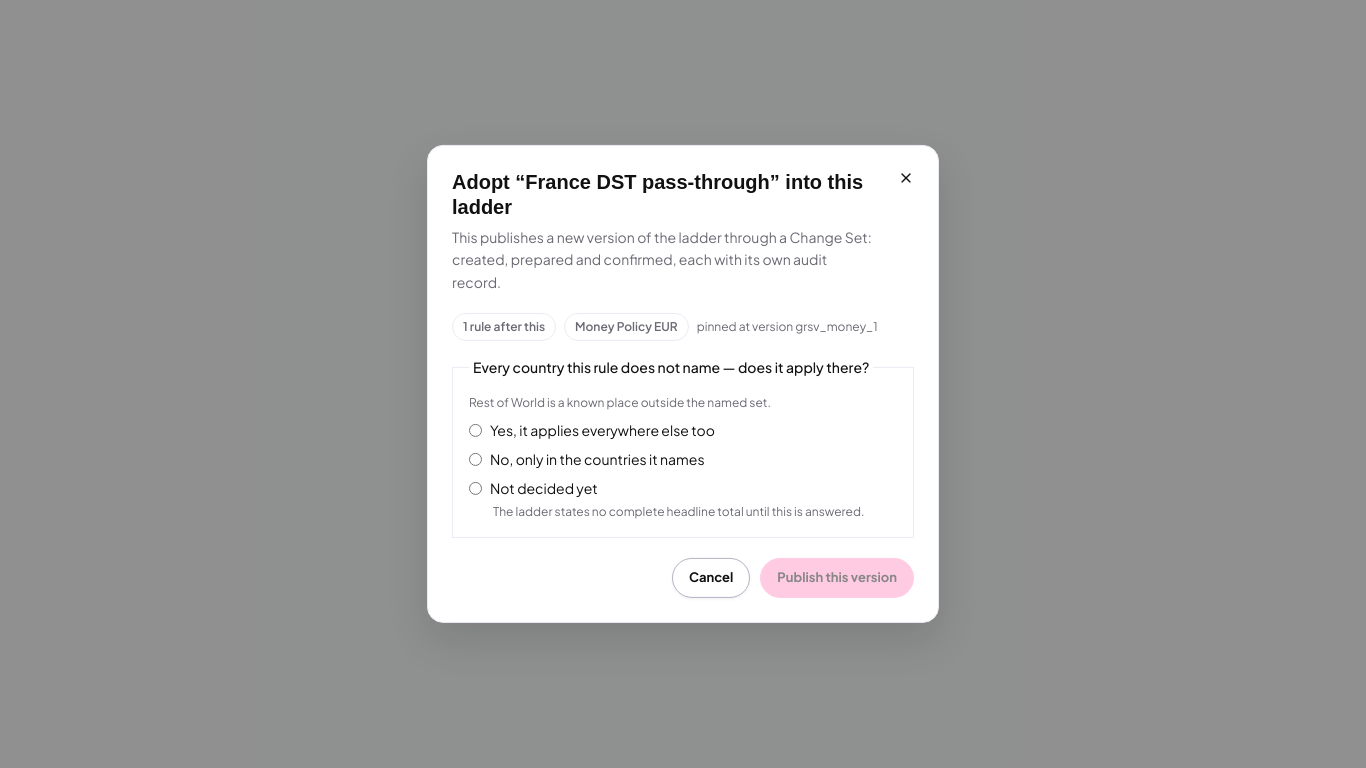
adopting a preset through a Change Set › cannot publish while one question is unanswered
Expected: the text "Every country this rule does not name — does it apply there?" is shown, [469,357,873,378]
Expected: the button "Publish this version" is disabled, [760,558,914,598]
Step 1. Click the radio button labelled "No, only in the countries it names" → x=476, y=460, box [469,453,482,466]
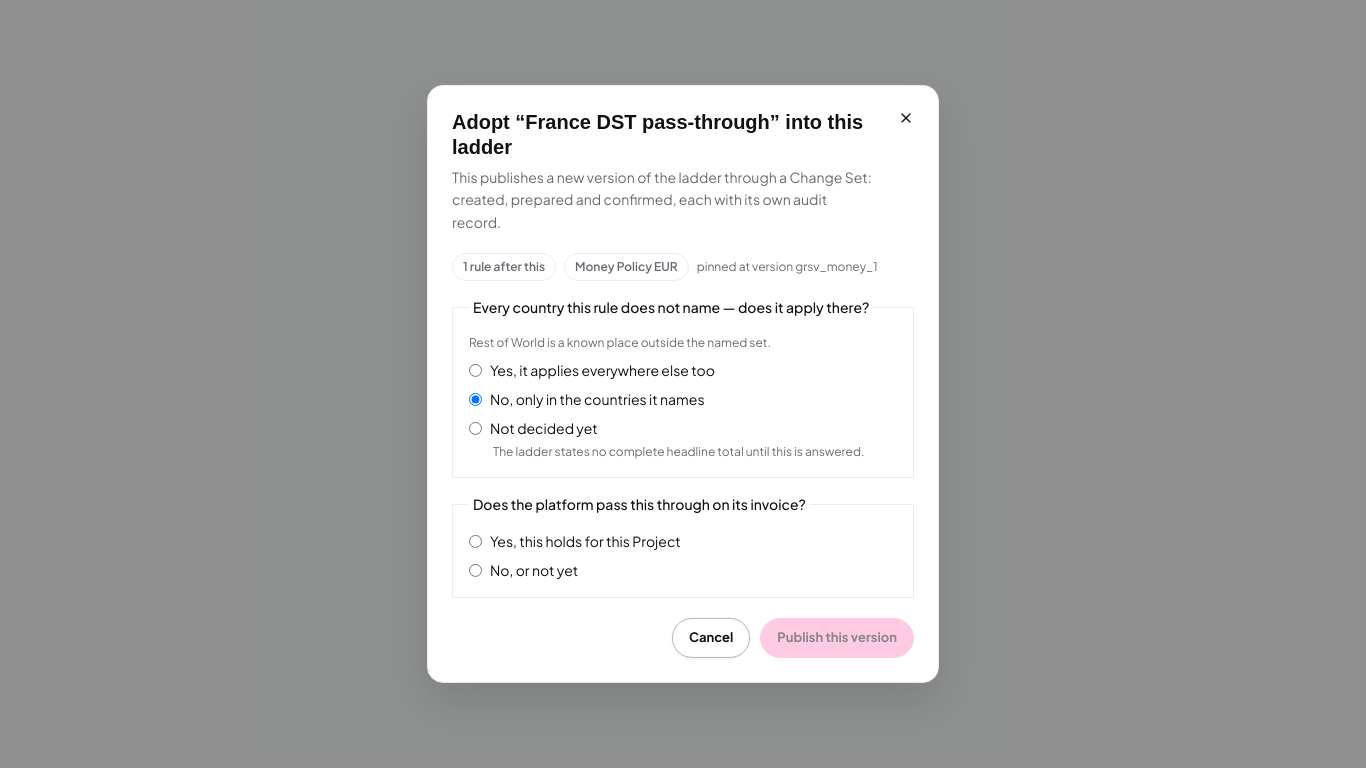
Expected: the button "Publish this version" is disabled, [760,618,914,658]
Step 2. Click the radio button labelled "Yes, this holds for this Project" → x=476, y=542, box [469,535,482,548]
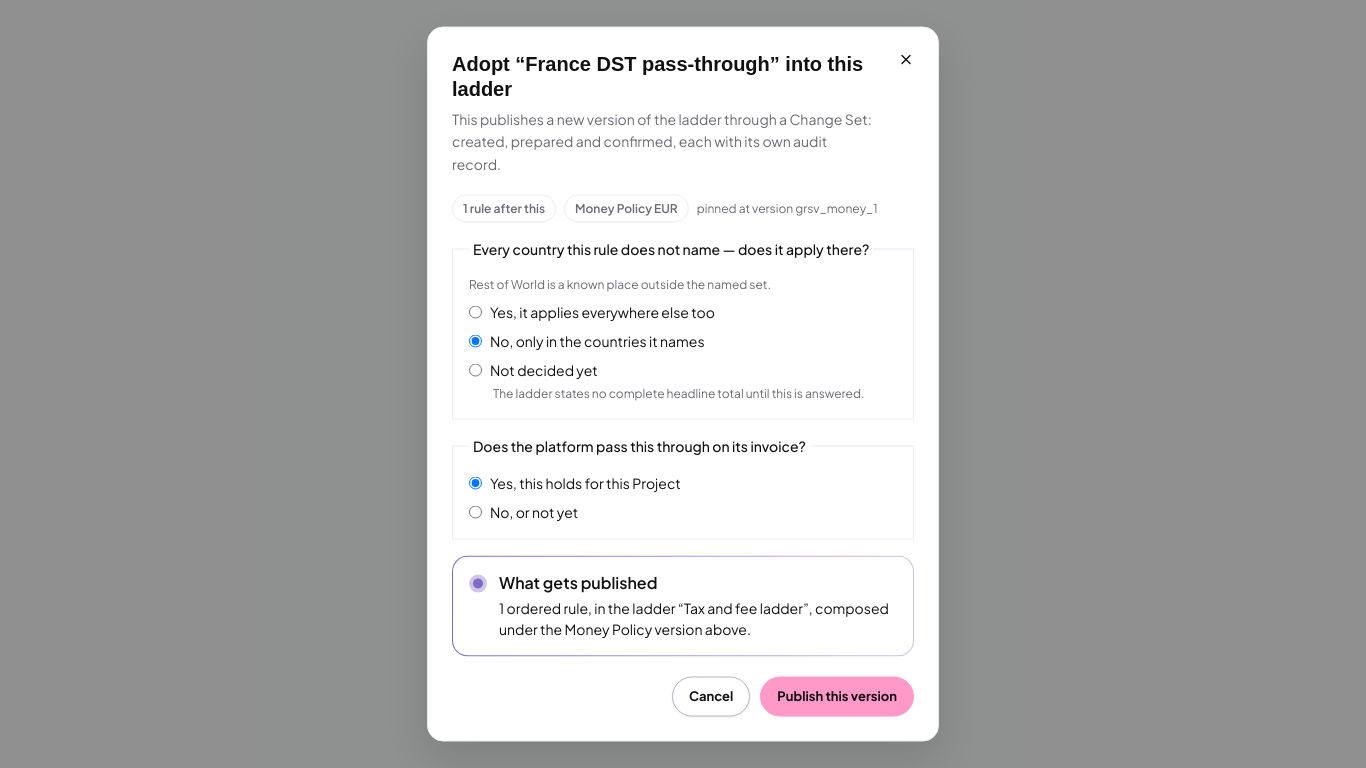
Expected: the button "Publish this version" is enabled, [760,676,914,716]
